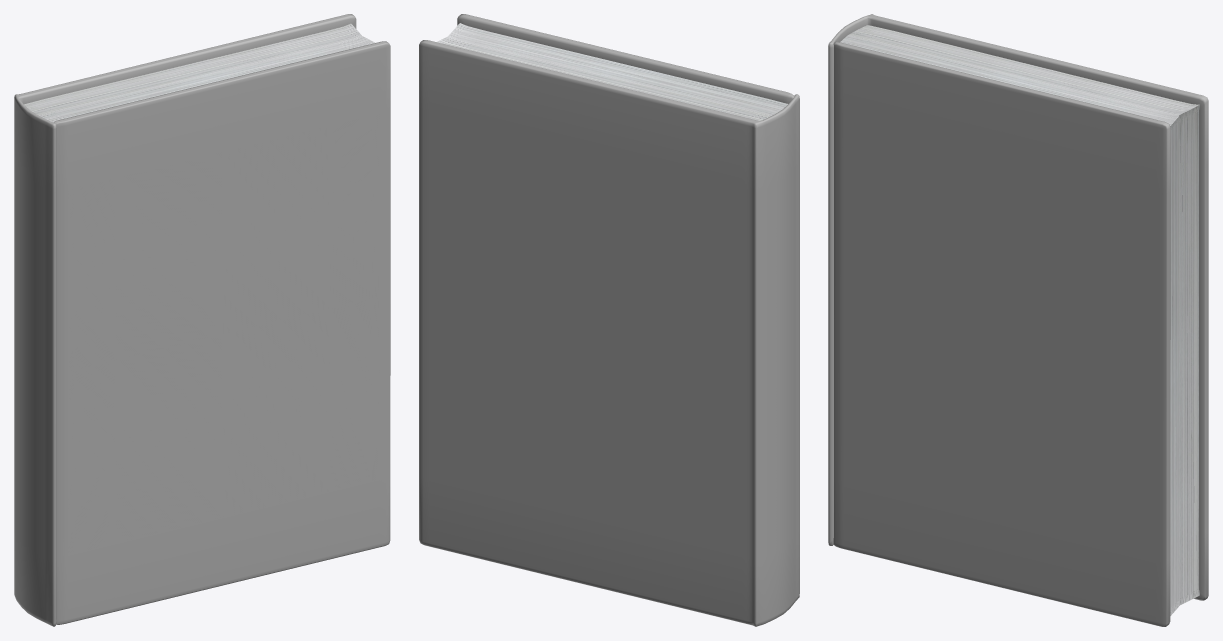
File: book_3.glb
3 views of the same model, side by side, from view 1: azimuth 30°, elevation 25°; view 2: azimuth 150°, elevation 25°; view 3: azimuth 330°, elevation 25° (orthographic).
Parts seen in each view (by area): view 1: cover, book, pages; view 2: book, pages, cover; view 3: cover, papers2, book, pages.
Part boxes in pixels (bbox=[...]): cover: bbox=[54, 41, 390, 624]; book: bbox=[14, 14, 356, 626]; pages: bbox=[24, 23, 375, 122]; book: bbox=[419, 40, 799, 626]; pages: bbox=[436, 23, 787, 120]; cover: bbox=[457, 14, 794, 103]; cover: bbox=[833, 41, 1170, 626]; papers2: bbox=[1170, 105, 1199, 615]; book: bbox=[828, 14, 1208, 600]; pages: bbox=[840, 25, 1199, 125].
Size of the model in its own units: 67.68 by 94.02 by 14.18.
Materials: 3 (1 with a texture image).
